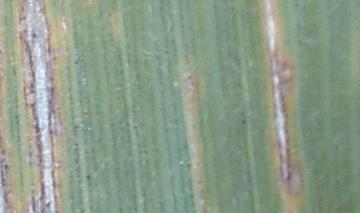tarspot: (29, 29, 39, 38), (184, 72, 192, 82), (72, 58, 79, 67), (240, 118, 247, 126), (3, 161, 8, 172), (84, 173, 90, 180)
